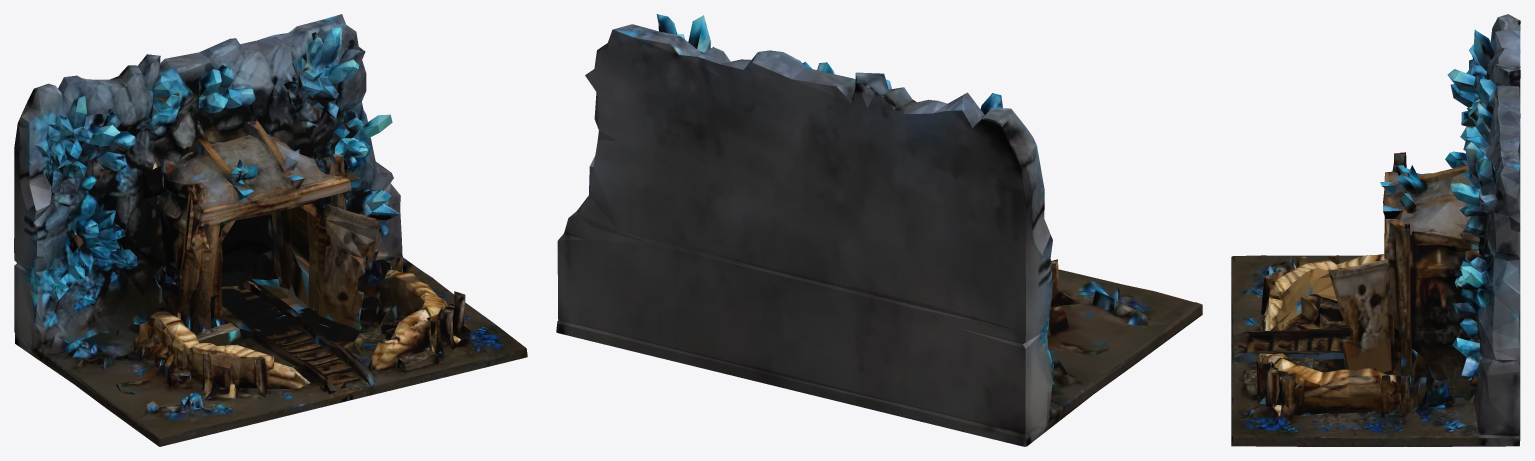
Rendered from crystal-cavern.glb.
3 renders of one model, left to right at view 1: azimuth 30°, elevation 25°; view 2: azimuth 150°, elevation 25°; view 3: azimuth 270°, elevation 25°, orthographic. The views are drawn at different scales.
Visible parts, largest first — view 1: tmp2wrzn_ce.ply; view 2: tmp2wrzn_ce.ply; view 3: tmp2wrzn_ce.ply.
Boxes of the visible parts, left/top/right/bottom form: tmp2wrzn_ce.ply: left=14, top=14, right=527, bottom=446; tmp2wrzn_ce.ply: left=556, top=14, right=1202, bottom=446; tmp2wrzn_ce.ply: left=1231, top=14, right=1520, bottom=446.
Bounding box in the file's own units: 6 × 4 × 4.
1 material, 1 textured.
